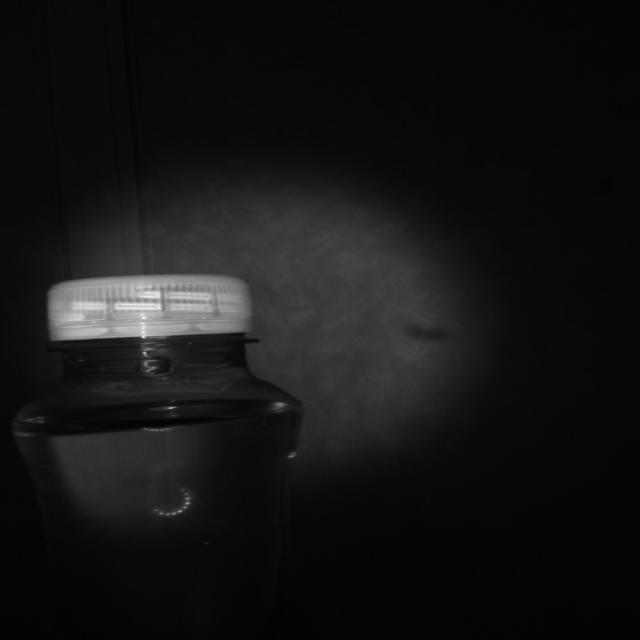Good: (44, 270, 254, 344)
